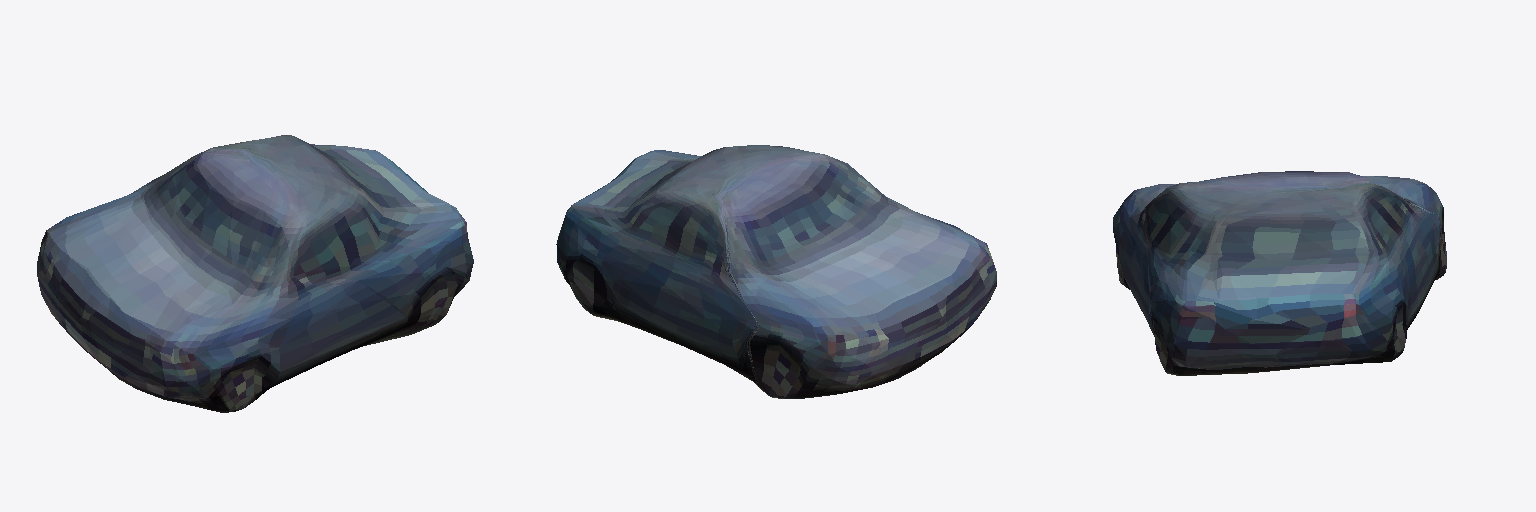
3 renders of one model, left to right at view 1: azimuth 30°, elevation 25°; view 2: azimuth 150°, elevation 25°; view 3: azimuth 270°, elevation 25°, orthographic.
Bounding box in the file's own units: 1 × 0.4383 × 0.8273.
1 materials, 1 textured.